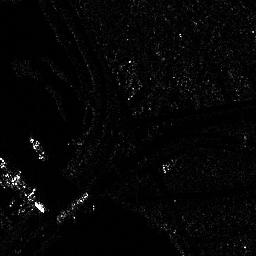ship: (54, 191, 90, 222)
